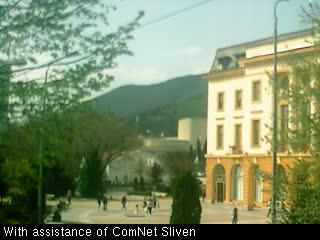person: (267, 198, 274, 217), (231, 207, 238, 224), (121, 195, 128, 212), (66, 189, 73, 204), (155, 199, 161, 215), (151, 192, 156, 209), (147, 199, 152, 216), (103, 195, 108, 210), (97, 194, 102, 209), (202, 189, 207, 203), (143, 199, 149, 210), (134, 204, 139, 214)
